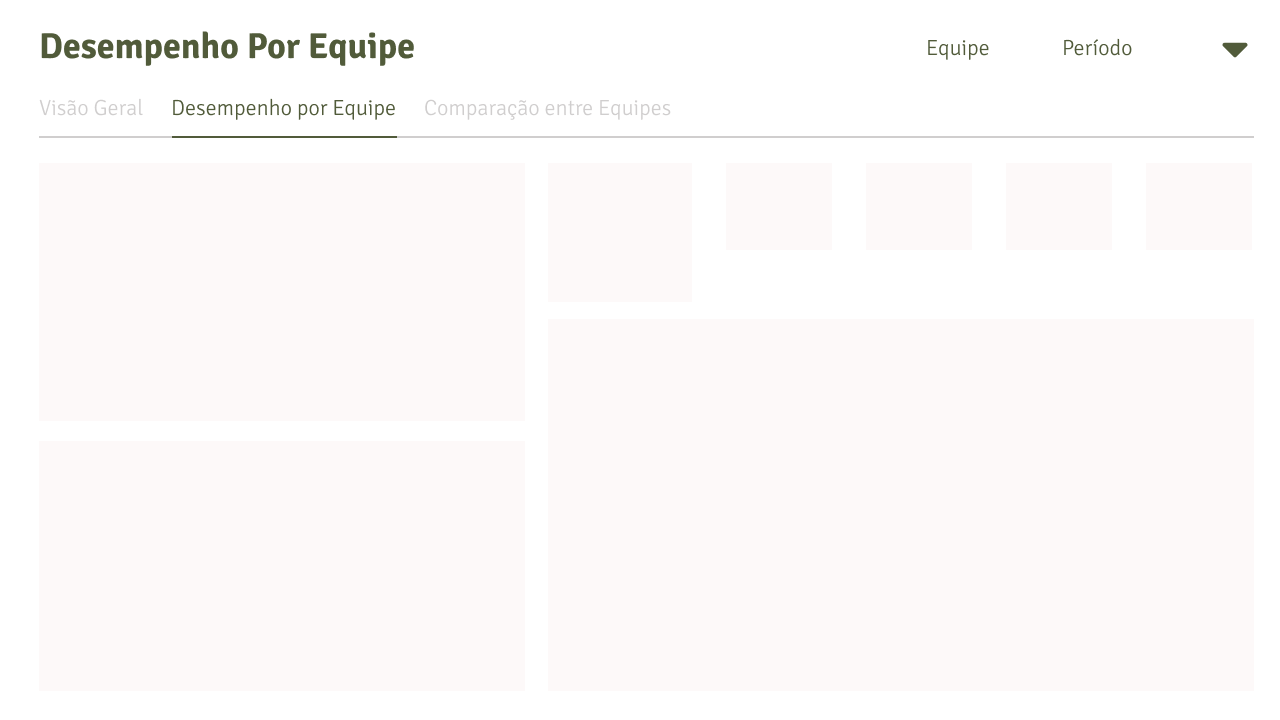

The page's visual inventory and layout, read from the dashboard file:
{"tool":"powerbi","page":{"name":"Desempenho por Equipe","canvas":[1280,720],"ordinal":1},"visuals":[{"type":"slicer","fields":{"Values":["public campeonatobr_serieb.team"]},"box":[708.7,25.5,280.6,45.4],"z":0},{"type":"slicer","fields":{"Values":["public campeonatobr_serieb.tournament"]},"box":[447.9,25.5,242.4,45.4],"z":1000},{"type":"slicer","fields":{"Values":["public campeonatobr_serieb.date"]},"box":[989.3,25.5,221.1,45.4],"z":2000},{"type":"card","fields":{"Values":["Count(public campeonatobr_serieb.round)"]},"box":[552.8,168.7,136.1,123.3],"z":3000},{"type":"card","fields":{"Values":["Count(public campeonatobr_serieb.round)"]},"box":[731.3,162.4,99.2,80.8],"z":4000},{"type":"card","fields":{"Values":["Count(public campeonatobr_serieb.round)"]},"box":[870.2,163,99.2,80.8],"z":5000},{"type":"card","fields":{"Values":["Count(public campeonatobr_serieb.round)"]},"box":[1010.6,162.4,99.2,80.8],"z":6000},{"type":"card","fields":{"Values":["Count(public campeonatobr_serieb.round)"]},"box":[1150.9,162.4,99.2,80.8],"z":7000},{"type":"lineChart","fields":{"Category":["public campeonatobr_serieb.date.Variation.Hierarquia de datas.Ano","public campeonatobr_serieb.date.Variation.Hierarquia de datas.Mês","public campeonatobr_serieb.date.Variation.Hierarquia de datas.Dia"],"Y":["Sum(public campeonatobr_serieb.points)"],"Y2":["Sum(public campeonatobr_serieb.gdiff)"]},"box":[46.8,168.7,470.6,240.9],"z":8000},{"type":"scatterChart","fields":{"X":["Sum(public campeonatobr_serieb.shots)"],"Y":["Sum(public campeonatobr_serieb.p_shotsontarget)"],"Category":["public campeonatobr_serieb.idgameteam"],"Size":["Sum(public campeonatobr_serieb.goals_shots)"],"Series":["public campeonatobr_serieb.venue"]},"box":[561.3,323.1,335.9,357.2],"z":9000},{"type":"scatterChart","fields":{"Category":["public campeonatobr_serieb.idgameteam"],"X":["Sum(public campeonatobr_serieb.shotsontarget_against)"],"Y":["Sum(public campeonatobr_serieb.p_saves)"],"Size":["Sum(public campeonatobr_serieb.ga)"],"Series":["public campeonatobr_serieb.venue"]},"box":[909.9,323.1,335.9,357.2],"z":10000},{"type":"clusteredColumnChart","fields":{"Category":["public campeonatobr_serieb.venue"],"Y":["Sum(public campeonatobr_serieb.ga)","Sum(public campeonatobr_serieb.gf)"]},"box":[46.8,443.6,470.6,236.7],"z":11000},{"type":"actionButton","box":[34,85,117.6,39.7],"z":12000},{"type":"actionButton","box":[163,85,242.4,39.7],"z":13000},{"type":"actionButton","box":[415.3,85,265,39.7],"z":14000}]}

Visuals, with their boxes in screenshot pixels (x1, y1, x2, y2), scaled from the page's 1280x720 canvas onto the 1280x720 screenshot:
slicer - public campeonatobr_serieb.team: x1=709, y1=26, x2=989, y2=71
slicer - public campeonatobr_serieb.tournament: x1=448, y1=26, x2=690, y2=71
slicer - public campeonatobr_serieb.date: x1=989, y1=26, x2=1210, y2=71
card - Count(public campeonatobr_serieb.round): x1=553, y1=169, x2=689, y2=292
card - Count(public campeonatobr_serieb.round): x1=731, y1=162, x2=830, y2=243
card - Count(public campeonatobr_serieb.round): x1=870, y1=163, x2=969, y2=244
card - Count(public campeonatobr_serieb.round): x1=1011, y1=162, x2=1110, y2=243
card - Count(public campeonatobr_serieb.round): x1=1151, y1=162, x2=1250, y2=243
lineChart - public campeonatobr_serieb.date.Variation.Hierarquia de datas.Ano x public campeonatobr_serieb.date.Variation.Hierarquia de datas.Mês: x1=47, y1=169, x2=517, y2=410
scatterChart - Sum(public campeonatobr_serieb.shots) x Sum(public campeonatobr_serieb.p_shotsontarget): x1=561, y1=323, x2=897, y2=680
scatterChart - public campeonatobr_serieb.idgameteam x Sum(public campeonatobr_serieb.shotsontarget_against): x1=910, y1=323, x2=1246, y2=680
clusteredColumnChart - public campeonatobr_serieb.venue x Sum(public campeonatobr_serieb.ga): x1=47, y1=444, x2=517, y2=680
actionButton: x1=34, y1=85, x2=152, y2=125
actionButton: x1=163, y1=85, x2=405, y2=125
actionButton: x1=415, y1=85, x2=680, y2=125
